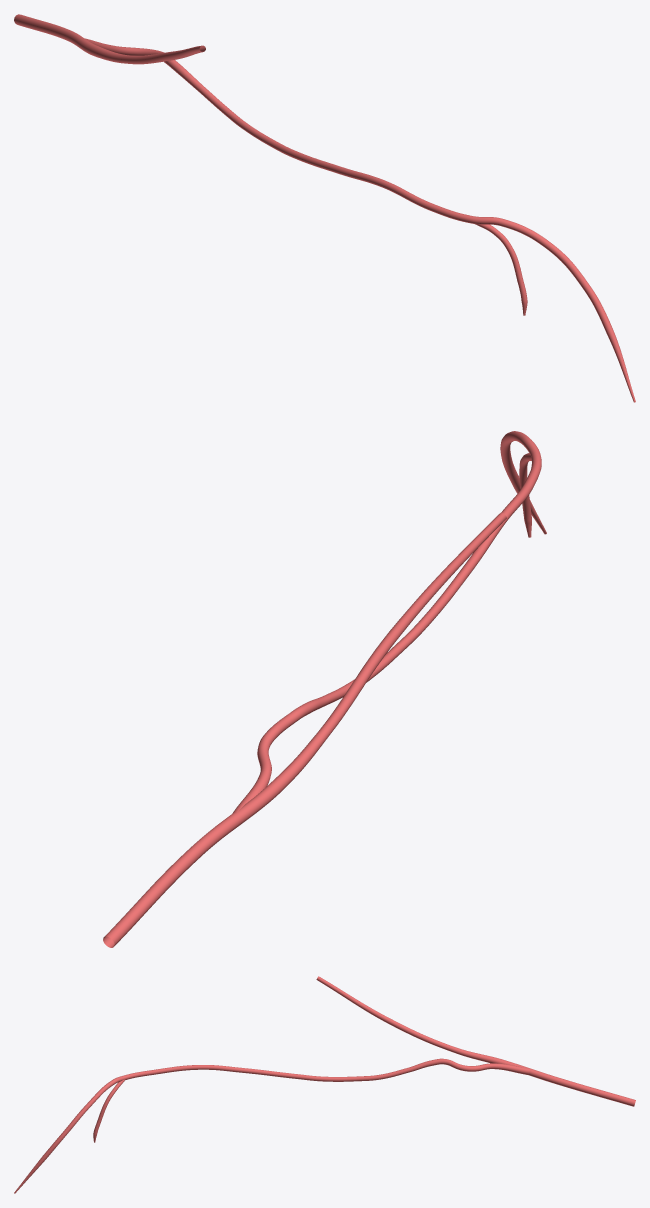
The model's file is Ophtalmic_artery.r_BezierCurve.286.glb.
3 renders of one model, top to bottom at view 1: azimuth 30°, elevation 25°; view 2: azimuth 150°, elevation 25°; view 3: azimuth 270°, elevation 25°, orthographic. The views are drawn at different scales.
Visible parts, largest first — view 1: Ophtalmic_artery.r_BezierCurve.286; view 2: Ophtalmic_artery.r_BezierCurve.286; view 3: Ophtalmic_artery.r_BezierCurve.286.
Part boxes in pixels (<box>): Ophtalmic_artery.r_BezierCurve.286: <box>14,14,635,402</box>; Ophtalmic_artery.r_BezierCurve.286: <box>103,431,546,947</box>; Ophtalmic_artery.r_BezierCurve.286: <box>14,976,635,1193</box>.
Size of the model in its own units: 0.0218 by 0.0239 by 0.0878.
